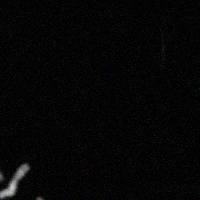chromosome: (0, 164, 29, 199), (0, 150, 4, 182), (35, 197, 48, 200)
